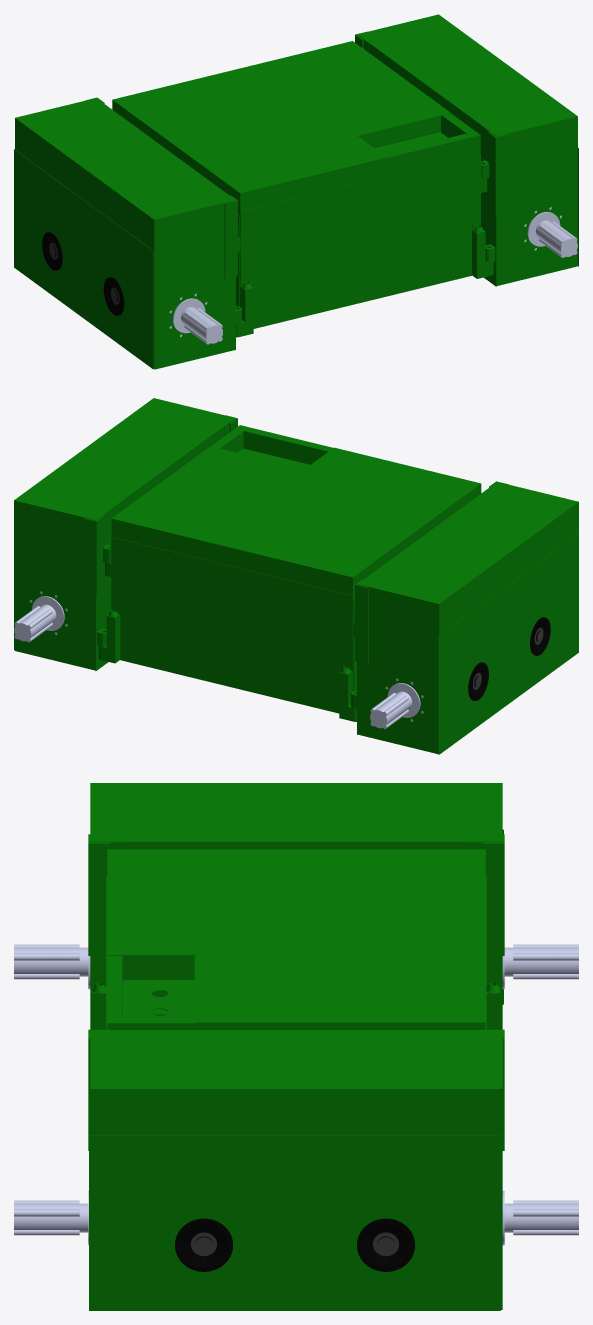
File: Body_closed.obj
3 views of the same model, one above another, from view 1: azimuth 30°, elevation 25°; view 2: azimuth 150°, elevation 25°; view 3: azimuth 270°, elevation 25° (orthographic). The views are drawn at different scales.
Parts seen in each view (by area): view 1: mesh 1 Raam-1/Silla kinniti 2-3, mesh 4 Raam-1/Silla kinniti 2-1, mesh 3 Mirror1 face; view 2: mesh 1 Raam-1/Silla kinniti 2-3, mesh 4 Raam-1/Silla kinniti 2-1, mesh 3 Mirror1 face; view 3: mesh 1 Raam-1/Silla kinniti 2-3, mesh 4 Raam-1/Silla kinniti 2-1, mesh 3 Mirror1 face, mesh 2 Raam-1/Raam-1.
Part boxes in pixels (<box>): mesh 1 Raam-1/Silla kinniti 2-3: <box>14,14,578,369</box>; mesh 4 Raam-1/Silla kinniti 2-1: <box>169,207,577,344</box>; mesh 3 Mirror1 face: <box>42,232,124,315</box>; mesh 1 Raam-1/Silla kinniti 2-3: <box>14,398,578,754</box>; mesh 4 Raam-1/Silla kinniti 2-1: <box>14,591,423,729</box>; mesh 3 Mirror1 face: <box>468,617,550,700</box>; mesh 1 Raam-1/Silla kinniti 2-3: <box>88,783,504,1310</box>; mesh 4 Raam-1/Silla kinniti 2-1: <box>14,944,578,1245</box>; mesh 3 Mirror1 face: <box>175,1218,415,1271</box>; mesh 2 Raam-1/Raam-1: <box>191,1232,398,1256</box>.
Bounding box in the file's own units: 1 × 0.337 × 0.776.
